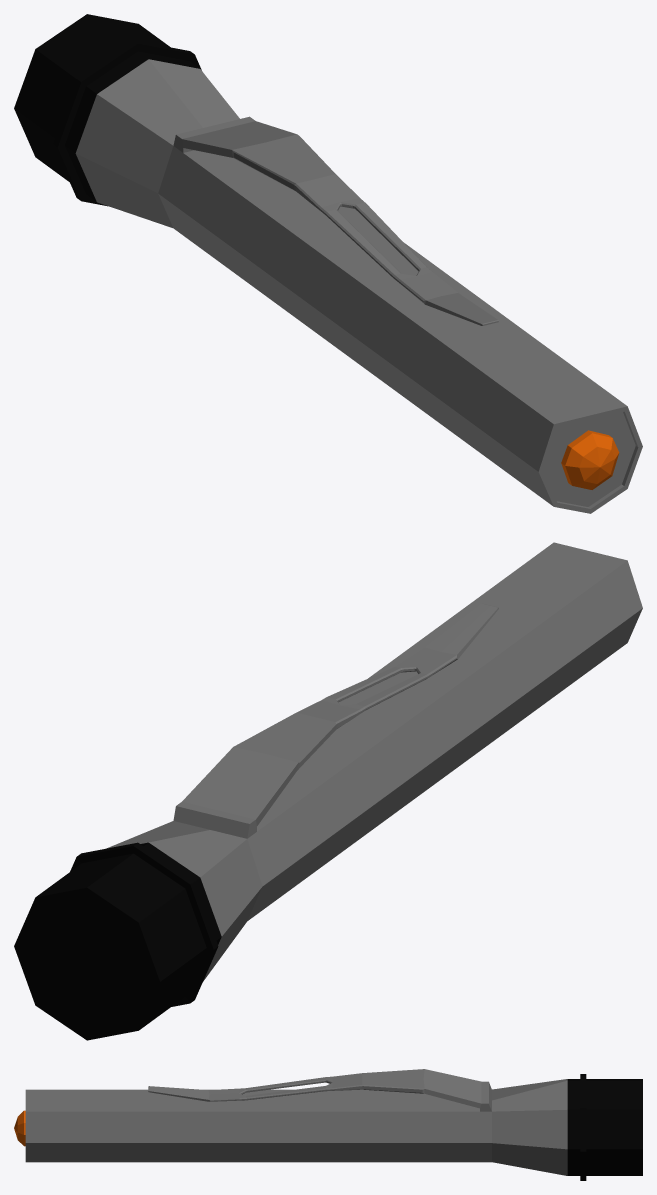
Rendered from Flashlight.fbx.
The picture shows the model from 3 angles, top to bottom: view 1: azimuth 30°, elevation 25°; view 2: azimuth 150°, elevation 25°; view 3: azimuth 270°, elevation 25°; orthographic projection. The views are drawn at different scales.
Visible parts, largest first — view 1: Casing, Button; view 2: Casing; view 3: Casing, Button.
Boxes of the visible parts, left/top/right/bottom form: Casing: left=14, top=14, right=642, bottom=513; Button: left=561, top=430, right=619, bottom=489; Casing: left=14, top=542, right=642, bottom=1040; Casing: left=25, top=1069, right=642, bottom=1180; Button: left=14, top=1110, right=25, bottom=1146.
Bounding box in the file's own units: 7.44 × 7.44 × 41.11.
